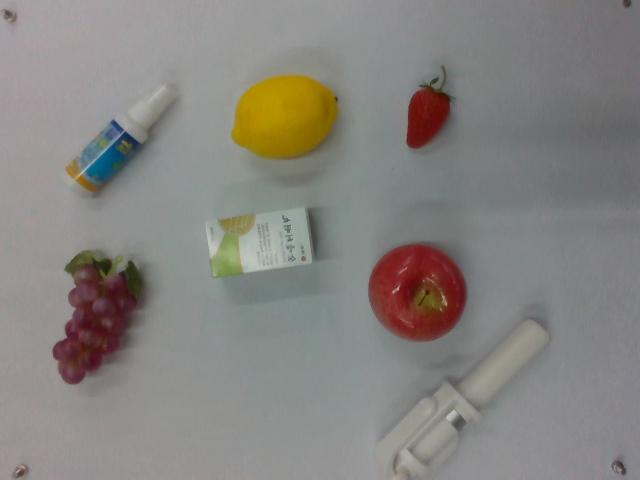apple: (368, 243, 468, 341)
carton: (200, 198, 315, 283)
detergent: (60, 82, 179, 201)
grape: (52, 253, 143, 384)
lemon: (232, 73, 342, 161)
selfiestick: (375, 314, 553, 479)
strawberry: (402, 68, 459, 151)
